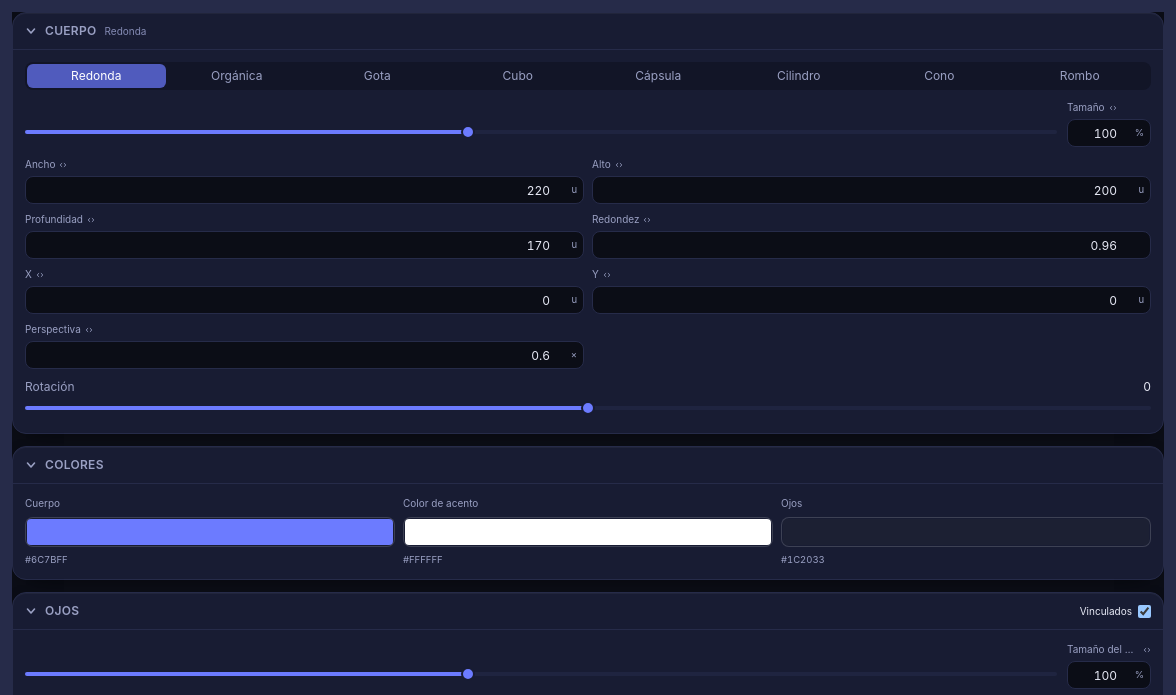
it: Look panel · ambient (FR-7.1) › sections collapse and reopen (docs/05 §2)
Expected: the number field labelled "Redondez" is shown, [601,232,1132,258]
Click the button "Cuerpo Redonda".
click(71, 30)  # box [13,13,1163,49]
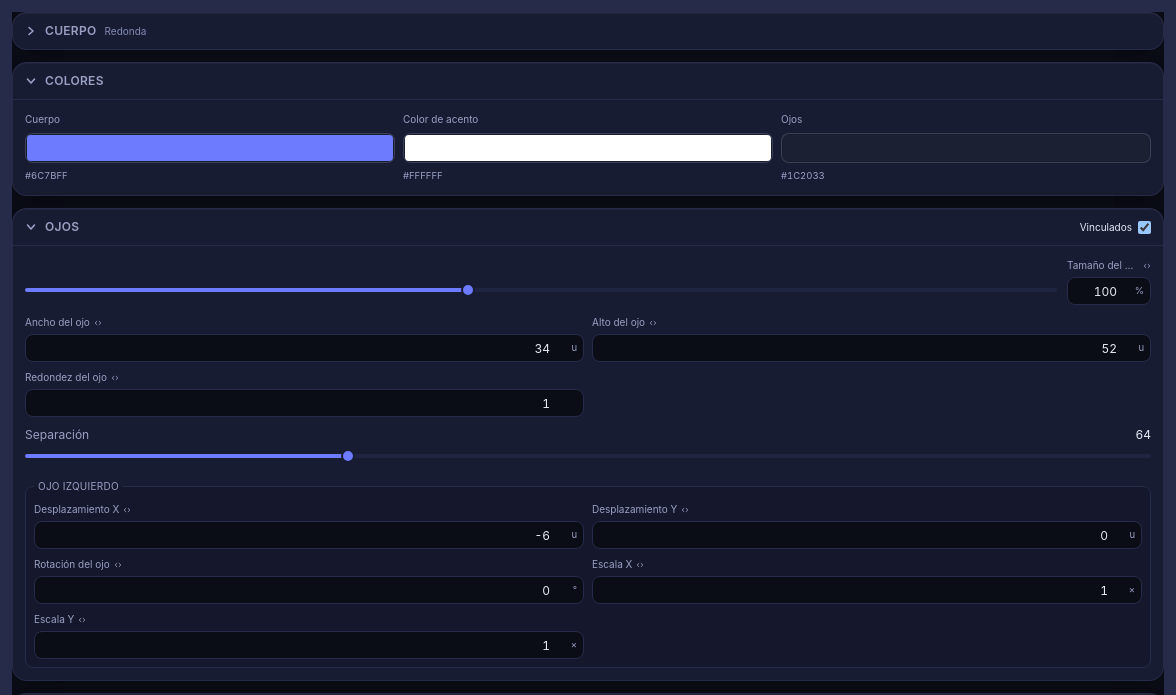
Result: the button "Cuerpo Redonda" is collapsed
Click the button "Cuerpo Redonda".
click(71, 30)  # box [13,13,1163,49]
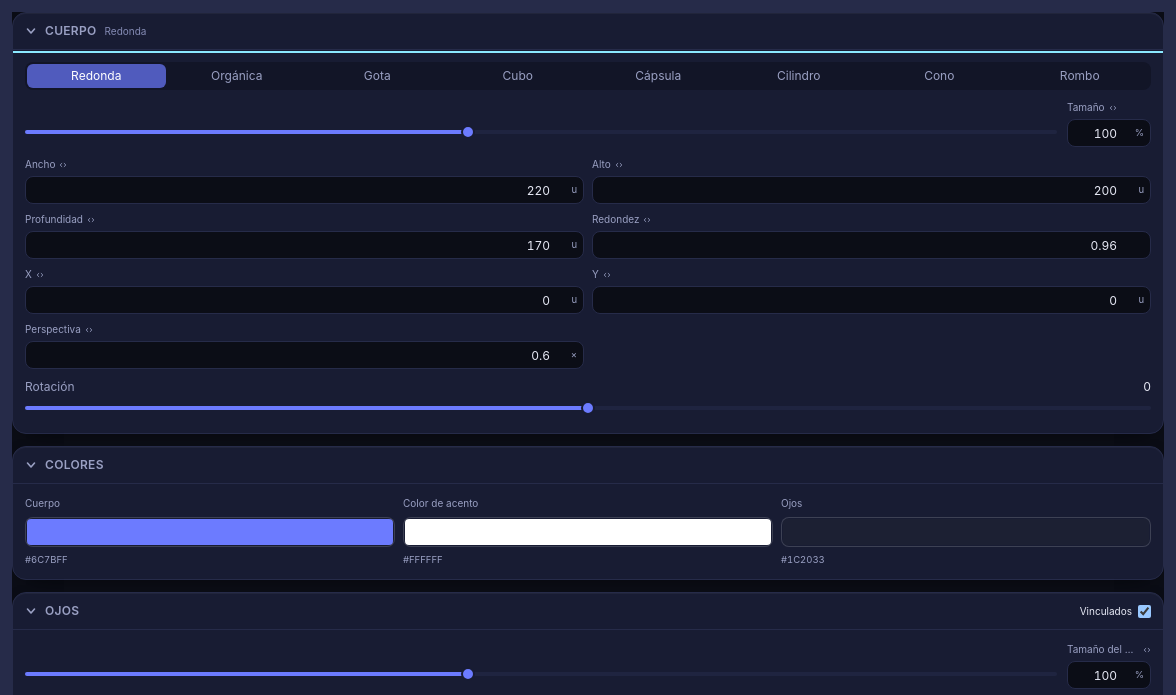
Result: the number field labelled "Redondez" is shown at [601,232,1132,258]
